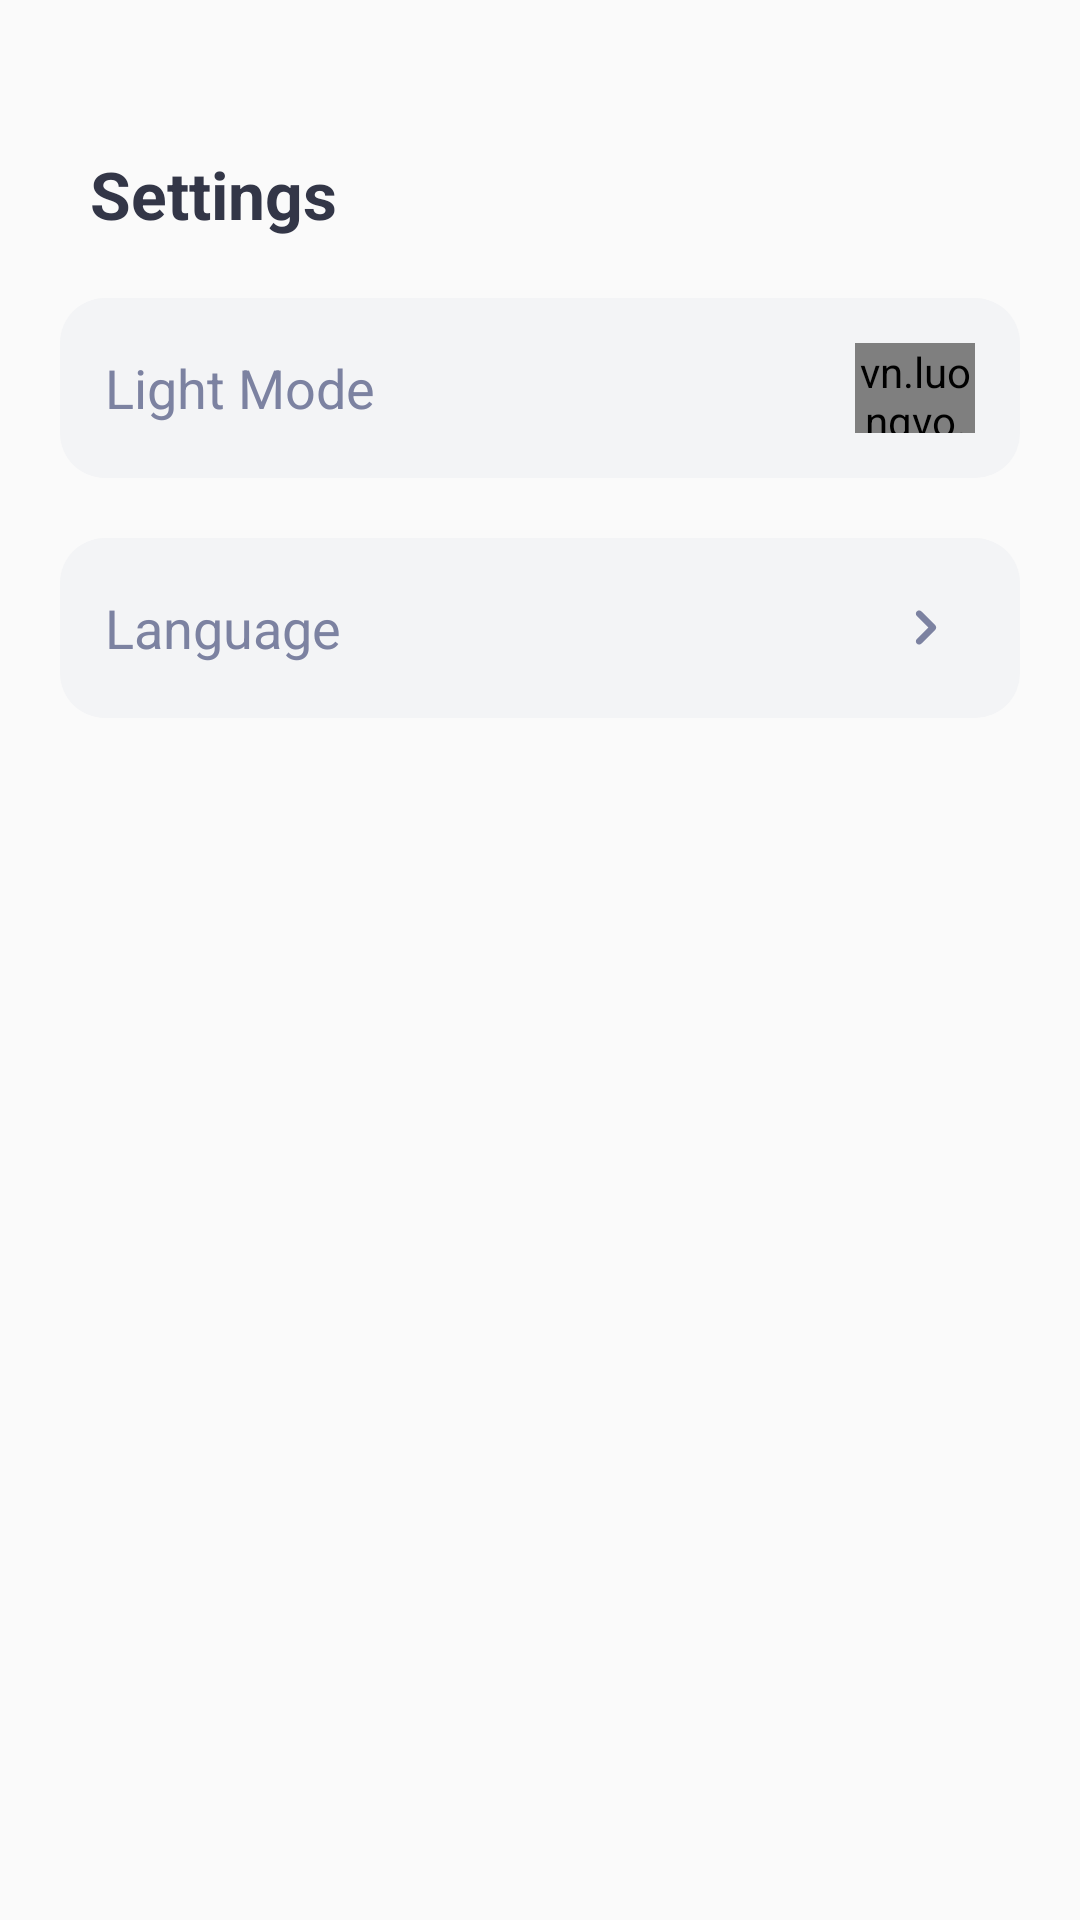

Locate icon controls on the screen. Image size 1080*1920, boxes as {"x1": x1, "y1": y1, "x2": x2, "y2": y2}.
arrow right: {"x1": 916, "y1": 610, "x2": 936, "y2": 645}
